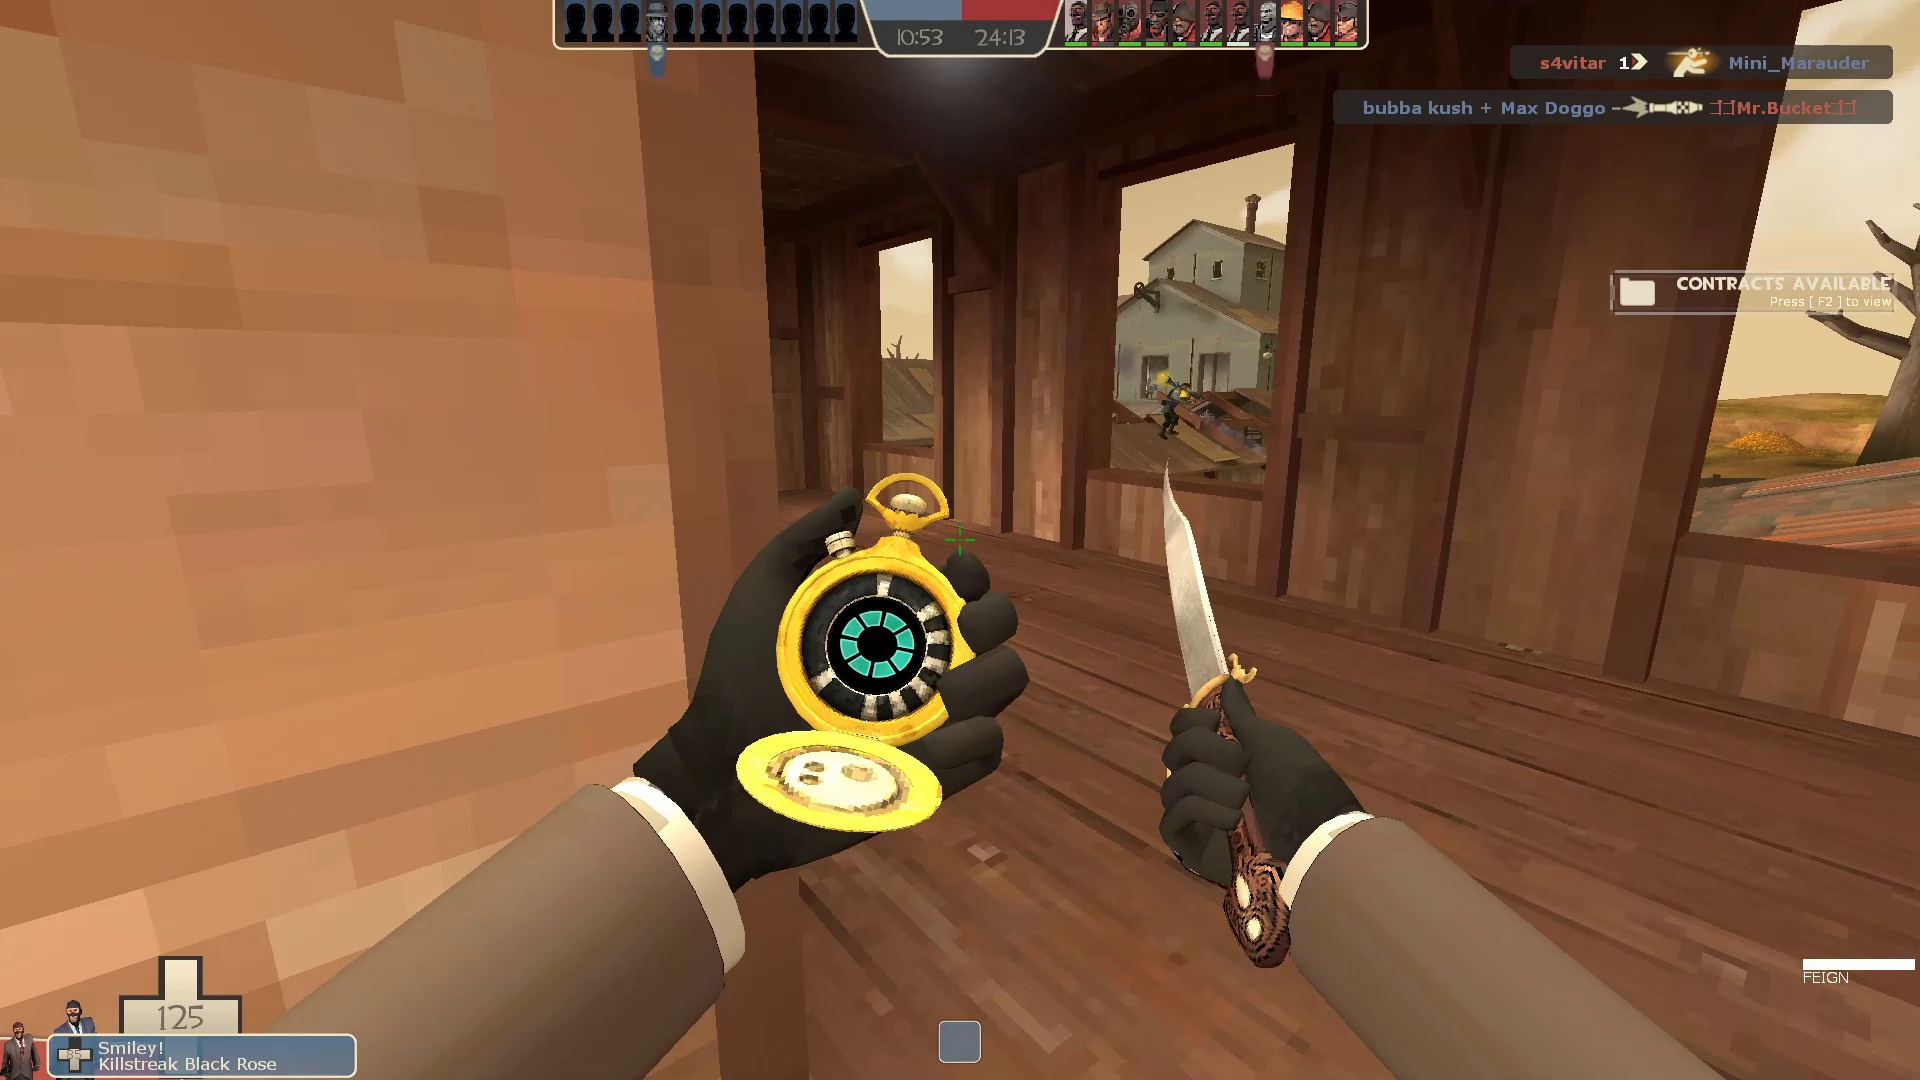blu_soldier: (1149, 368, 1204, 444)
